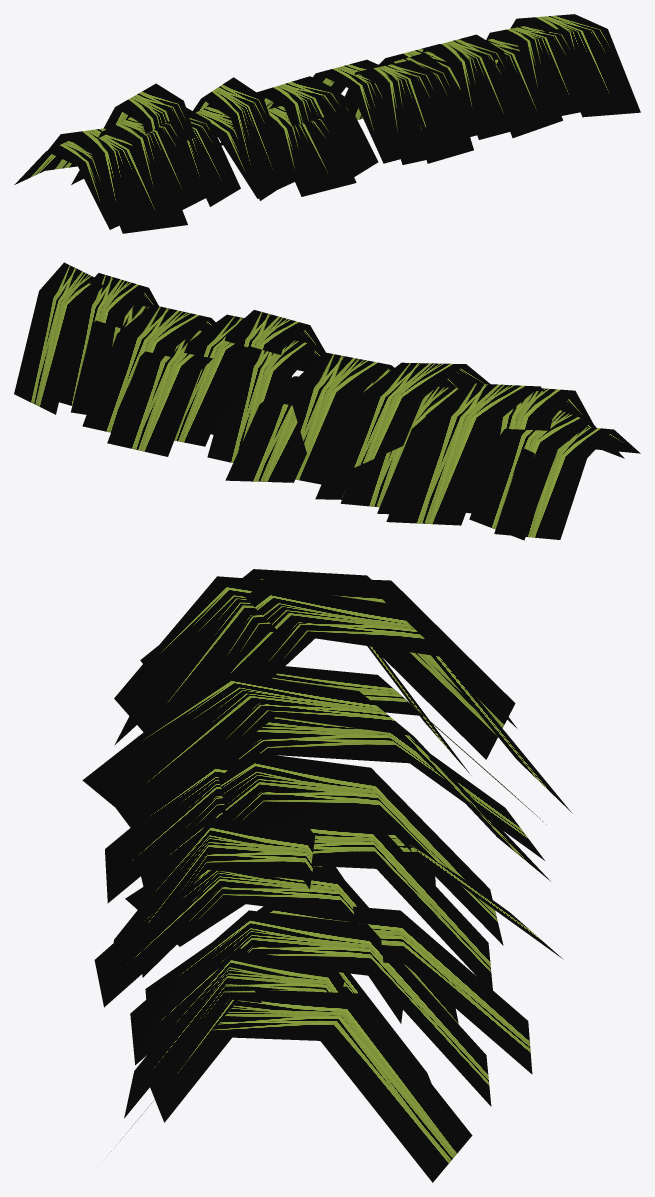
File: Furn_Grass_Edge_B.fbx
3 views of the same model, one above another, from view 1: azimuth 30°, elevation 25°; view 2: azimuth 150°, elevation 25°; view 3: azimuth 270°, elevation 25° (orthographic). The views are drawn at different scales.
Visible parts, largest first — view 1: Furn_Grass_Edge_B; view 2: Furn_Grass_Edge_B; view 3: Furn_Grass_Edge_B.
Part boxes in pixels (x1,y1,x2,y2): Furn_Grass_Edge_B: [14, 14, 640, 233]; Furn_Grass_Edge_B: [14, 262, 640, 540]; Furn_Grass_Edge_B: [82, 569, 572, 1182].
Bounding box in the file's own units: 1 × 0.15 × 0.4.
Materials: 1 (1 with a texture image).
